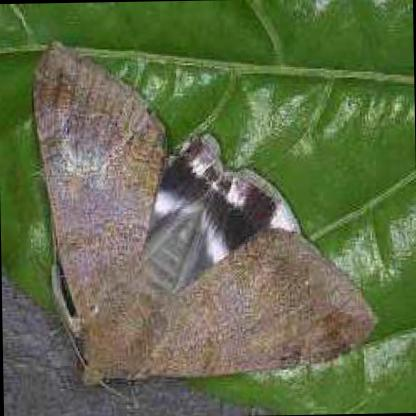fruit sucking moth: (29, 47, 379, 388)
